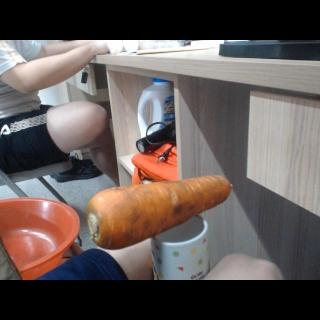carrot: (86, 174, 234, 251)
